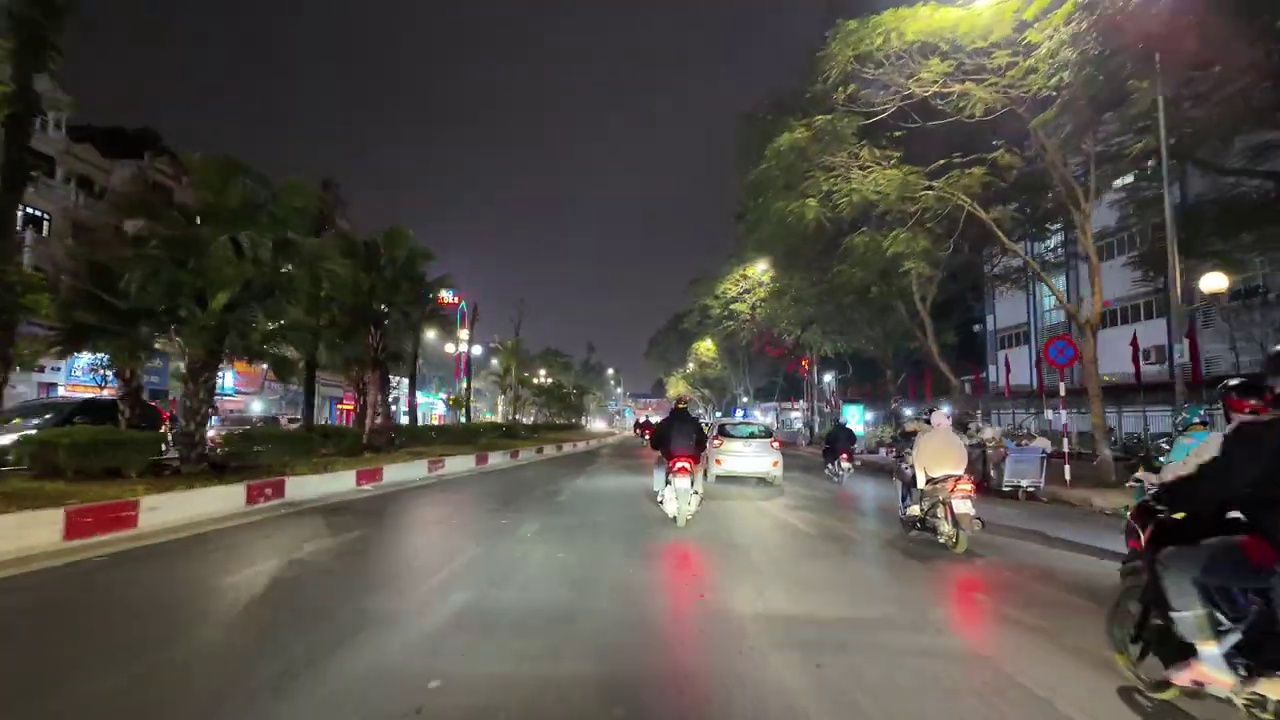acesa: (1197, 270, 1231, 298), (692, 337, 720, 362)
